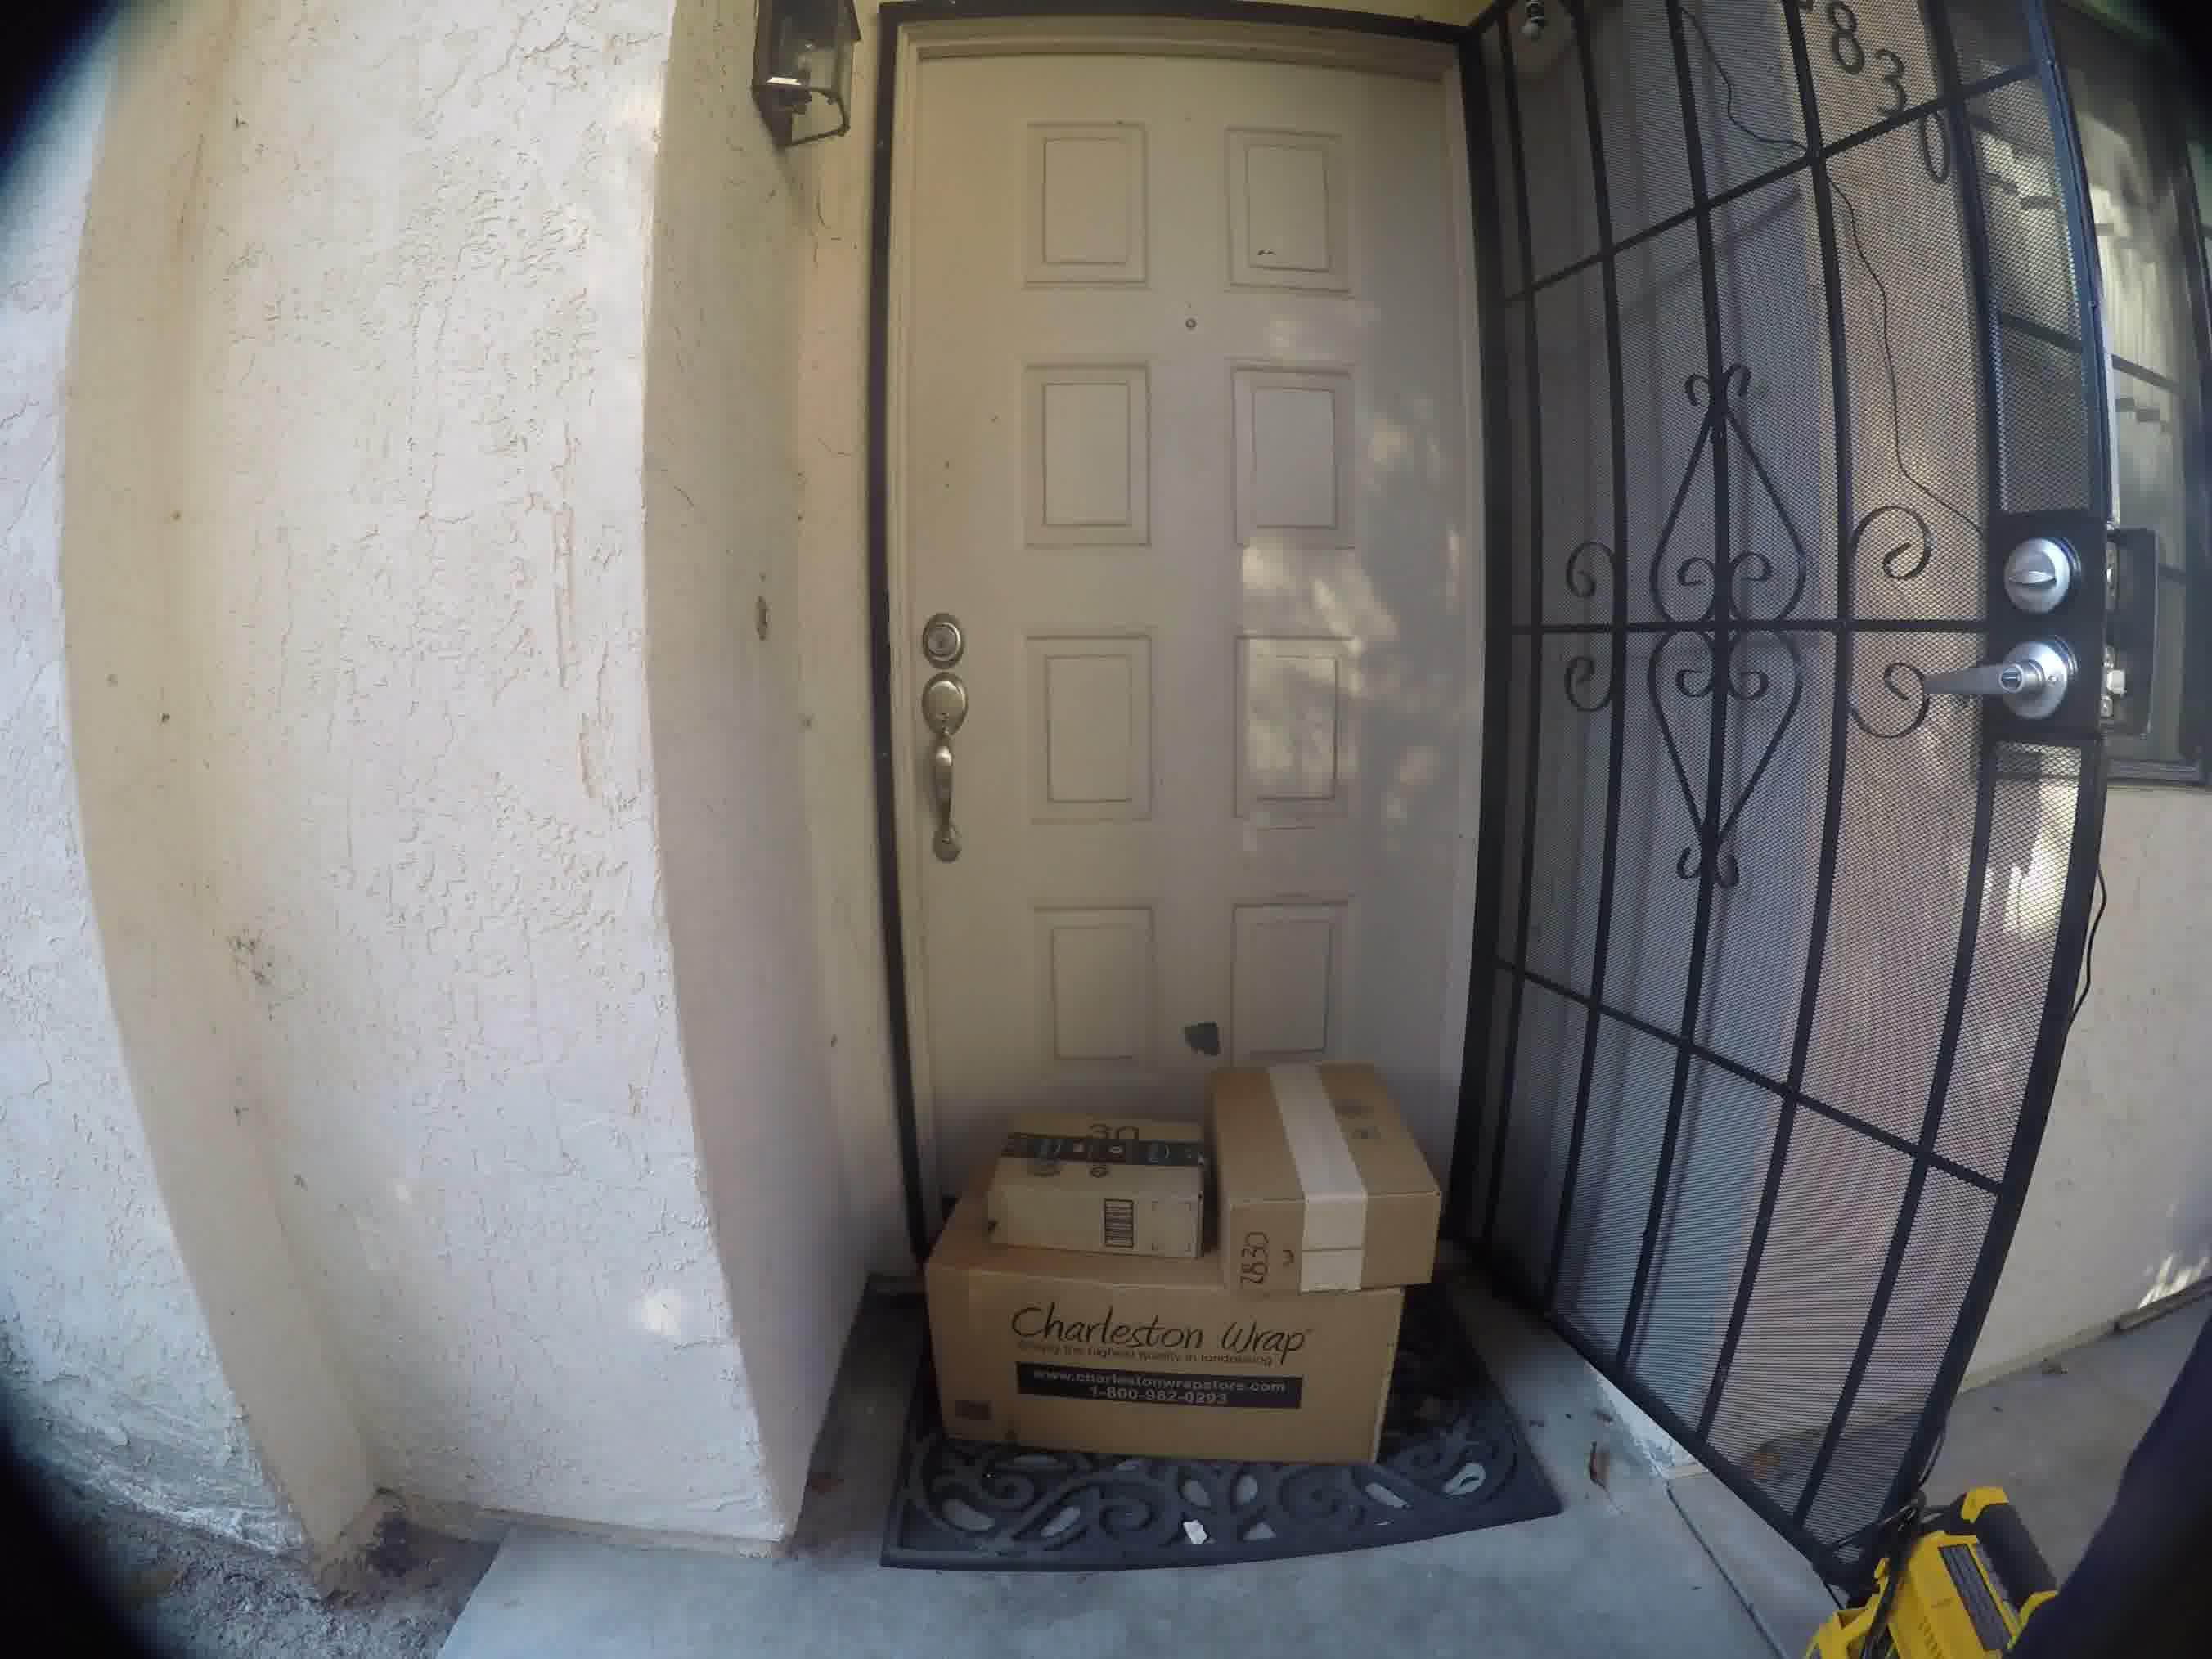box: (918, 1244, 1402, 1504), (1216, 1049, 1456, 1279), (989, 1091, 1197, 1244)
